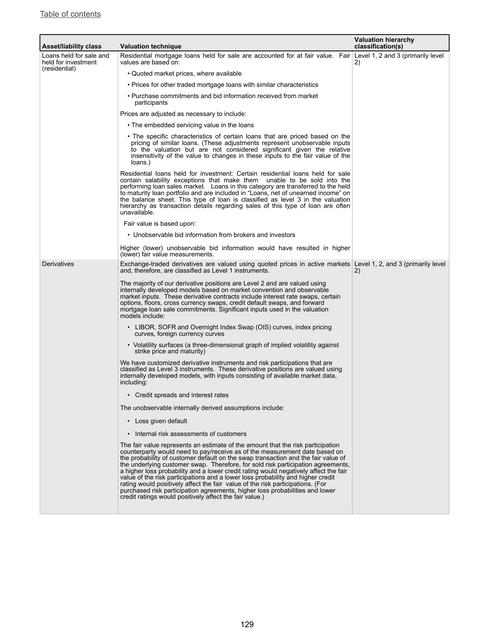box: (37, 32, 453, 516)
